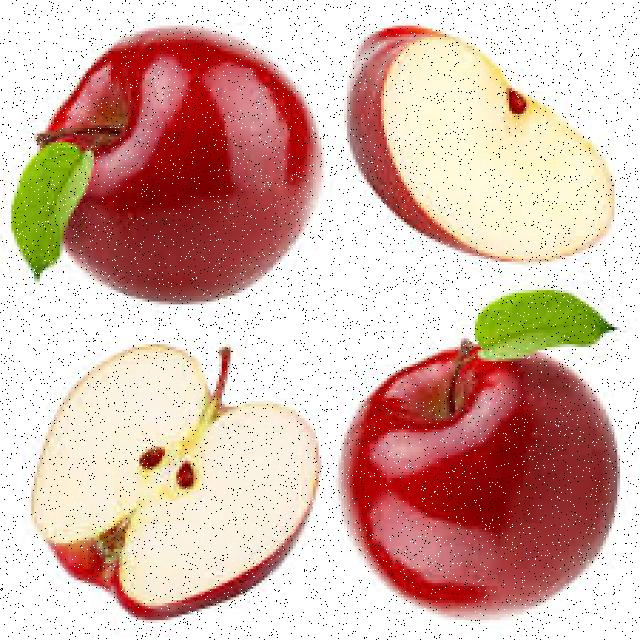Apple: (338, 290, 619, 618), (12, 27, 326, 308), (31, 340, 320, 621), (342, 26, 618, 268)
